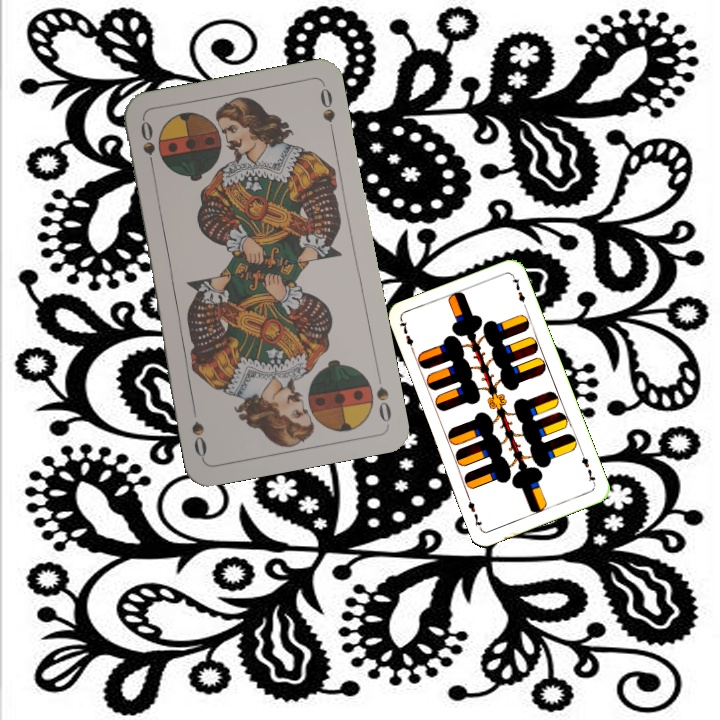E7: (395, 317, 417, 356), (577, 448, 598, 487)
SO: (136, 117, 158, 176), (372, 382, 394, 425)
